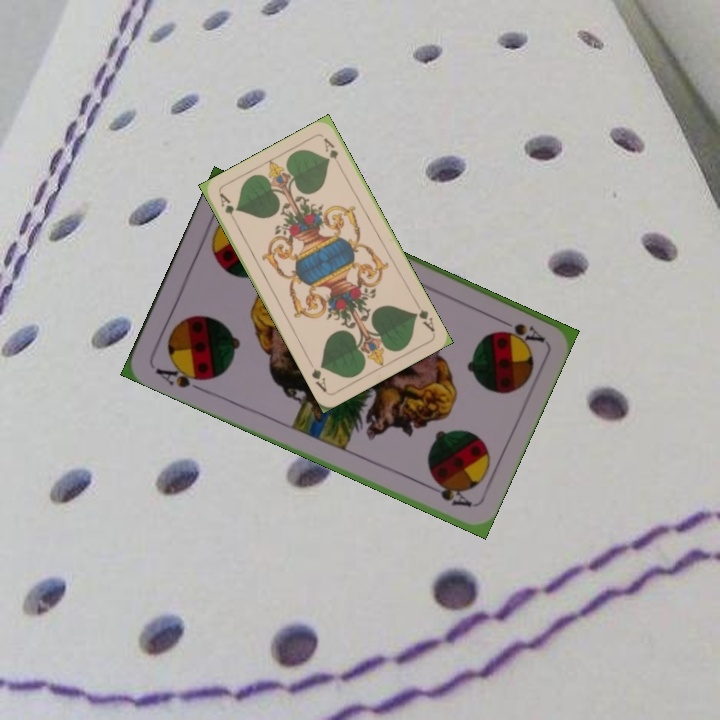GA: (215, 189, 240, 228), (410, 298, 437, 334)
SA: (151, 359, 210, 394), (491, 312, 547, 346)
